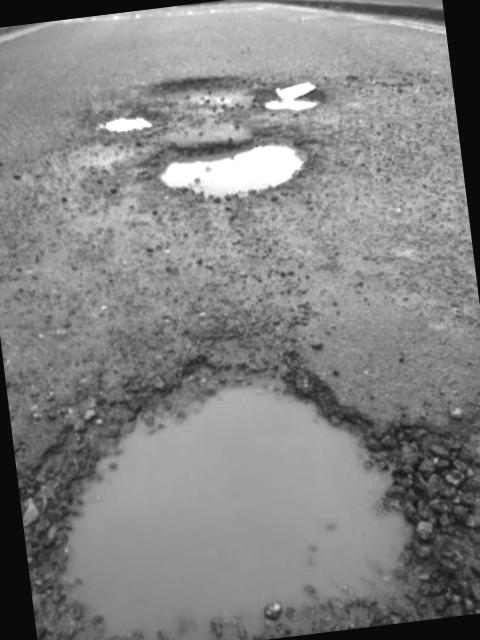Pothole: (43, 304, 471, 640), (152, 116, 348, 237), (144, 58, 268, 130), (68, 89, 168, 154), (244, 76, 338, 126)
